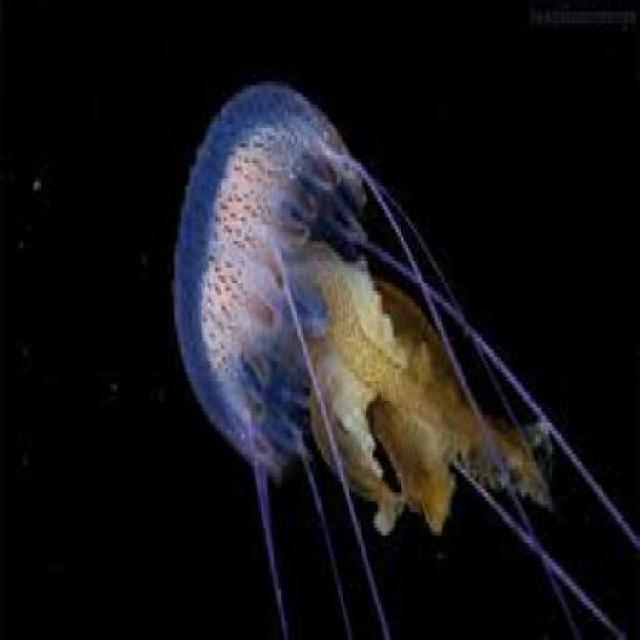Jellyfish: (167, 65, 624, 606)
